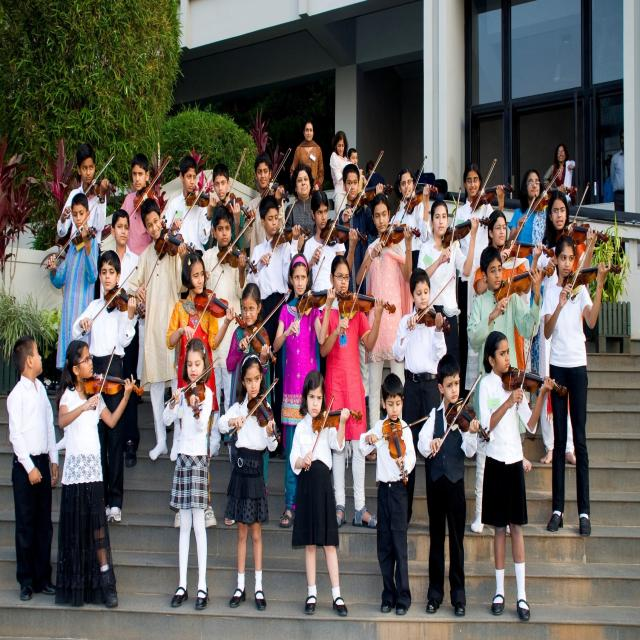violin: (443, 397, 493, 448), (501, 366, 570, 402), (241, 392, 286, 445), (195, 284, 246, 329), (553, 210, 611, 249), (496, 264, 555, 302), (380, 416, 412, 484), (80, 366, 146, 398), (294, 284, 353, 318), (338, 287, 398, 319), (444, 213, 491, 251), (497, 235, 556, 264), (568, 264, 626, 292), (312, 406, 366, 436), (244, 316, 280, 361), (103, 285, 146, 321), (532, 182, 580, 212), (377, 219, 423, 250), (153, 228, 195, 261), (319, 220, 370, 247), (215, 244, 258, 276), (412, 304, 452, 338), (223, 190, 255, 228), (183, 188, 223, 218), (402, 184, 441, 213), (184, 376, 207, 421), (472, 183, 514, 207), (268, 226, 312, 247), (260, 181, 290, 205), (354, 187, 396, 202), (132, 182, 156, 206), (91, 174, 118, 194), (70, 227, 96, 245)
